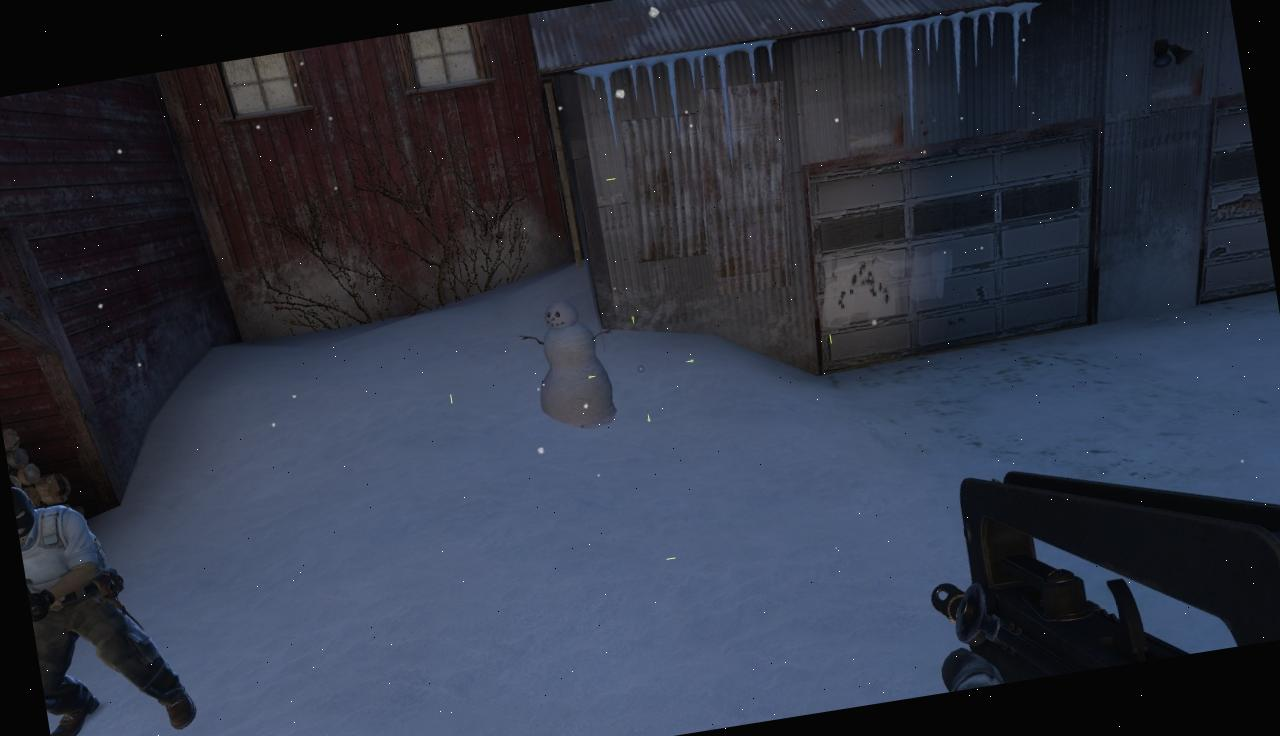rifle: (917, 420, 1280, 691)
tt: (12, 470, 153, 736)
tthead: (11, 484, 38, 540)
